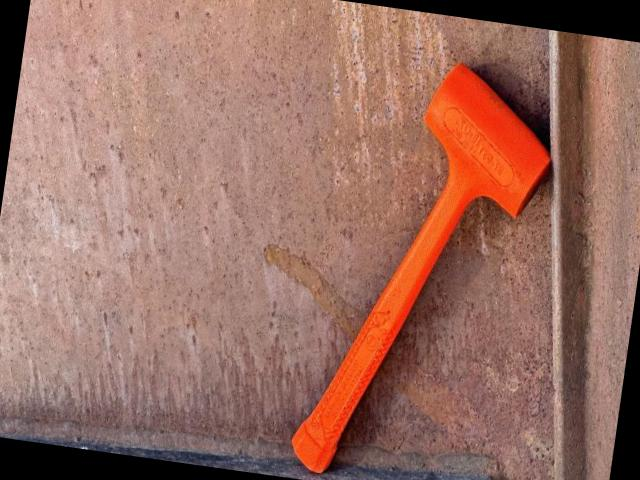hammer: (285, 45, 565, 480)
